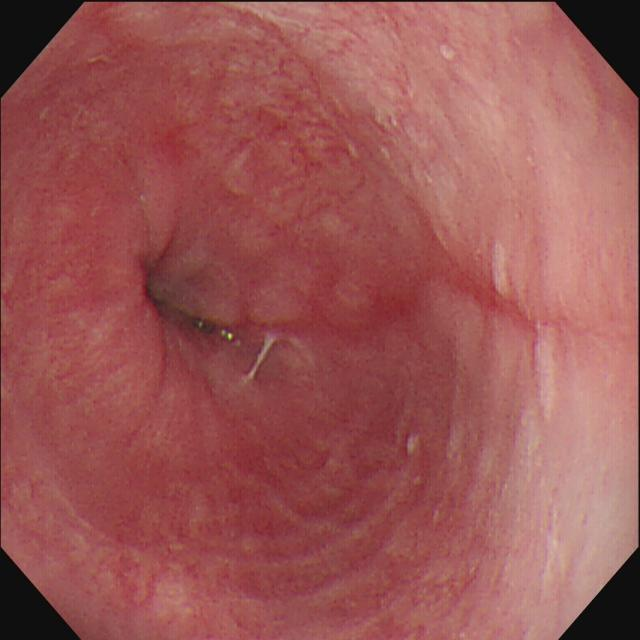A: (246, 58, 353, 183)
J: (531, 320, 563, 422), (247, 333, 277, 381), (491, 240, 513, 299)
